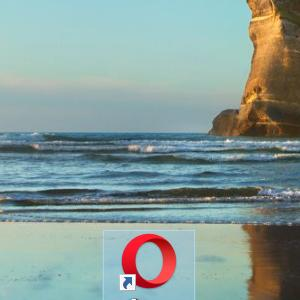opera: (119, 233, 177, 291)
